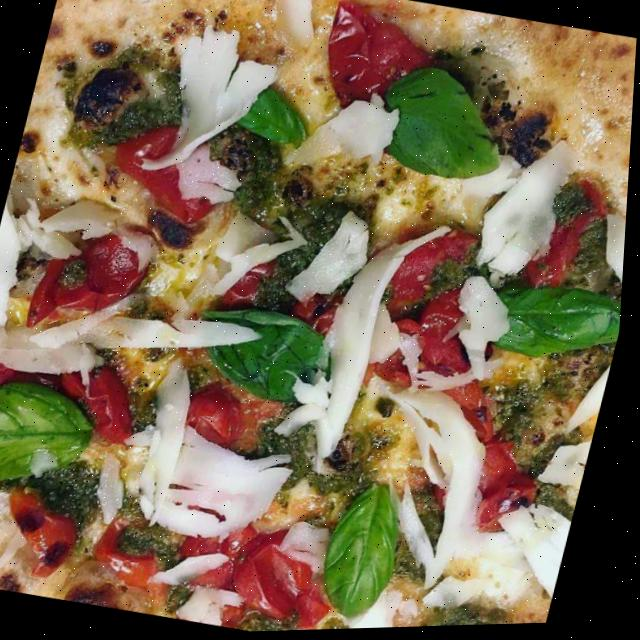basil: (365, 56, 527, 191), (316, 475, 421, 628), (193, 297, 336, 409), (0, 366, 110, 500), (485, 274, 627, 374), (229, 76, 321, 152)
pizza: (0, 0, 640, 640)
tomatoes: (310, 0, 436, 122), (28, 221, 148, 341), (105, 121, 231, 224), (522, 181, 620, 295), (367, 311, 482, 403), (0, 476, 100, 580), (56, 355, 160, 450), (257, 528, 351, 633), (228, 523, 320, 630), (386, 226, 483, 316), (81, 508, 173, 596), (177, 511, 260, 602), (177, 380, 258, 449), (483, 473, 546, 539)
